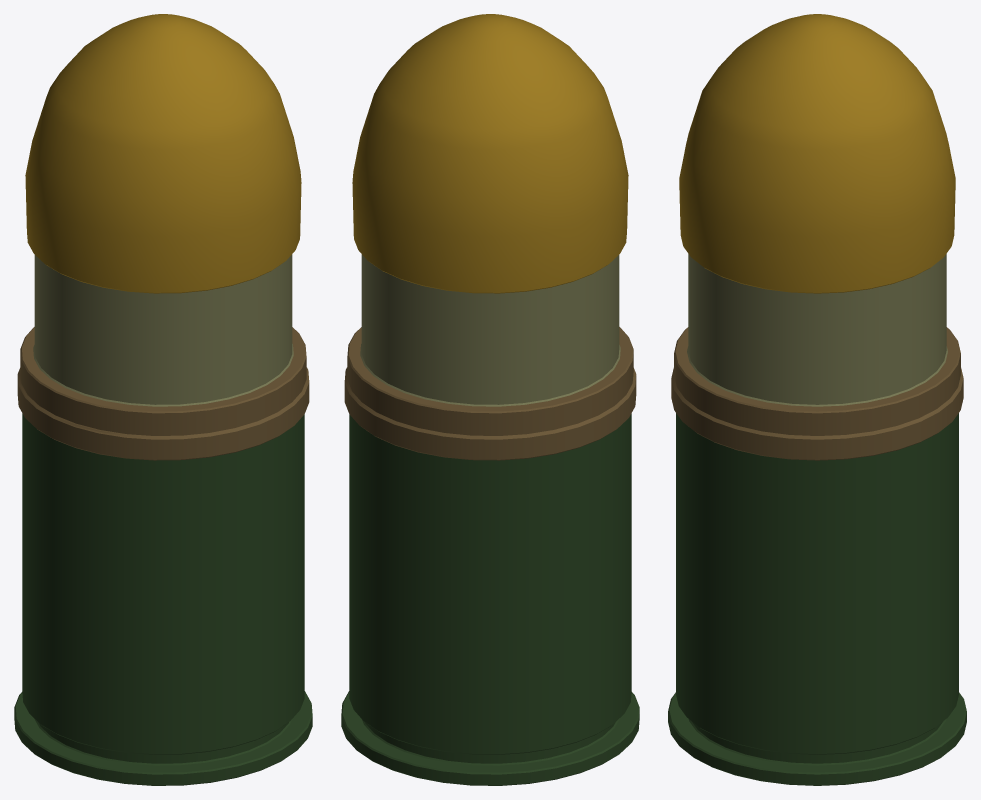
File: bullet2.fbx
3 renders of one model, left to right at view 1: azimuth 30°, elevation 25°; view 2: azimuth 150°, elevation 25°; view 3: azimuth 270°, elevation 25°, orthographic.
Visible parts, largest first — view 1: Circle; view 2: Circle; view 3: Circle.
Part boxes in pixels (left/top/right/bottom): Circle: left=14, top=14, right=312, bottom=785; Circle: left=341, top=14, right=639, bottom=785; Circle: left=668, top=14, right=966, bottom=785.
Bounding box in the file's own units: 6.94 × 18 × 6.94.
